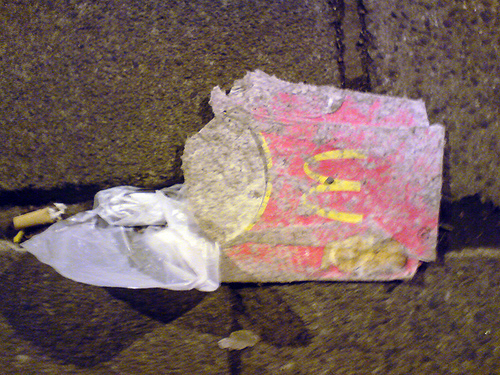litter: (190, 78, 445, 281), (71, 189, 188, 288), (14, 203, 68, 276)
